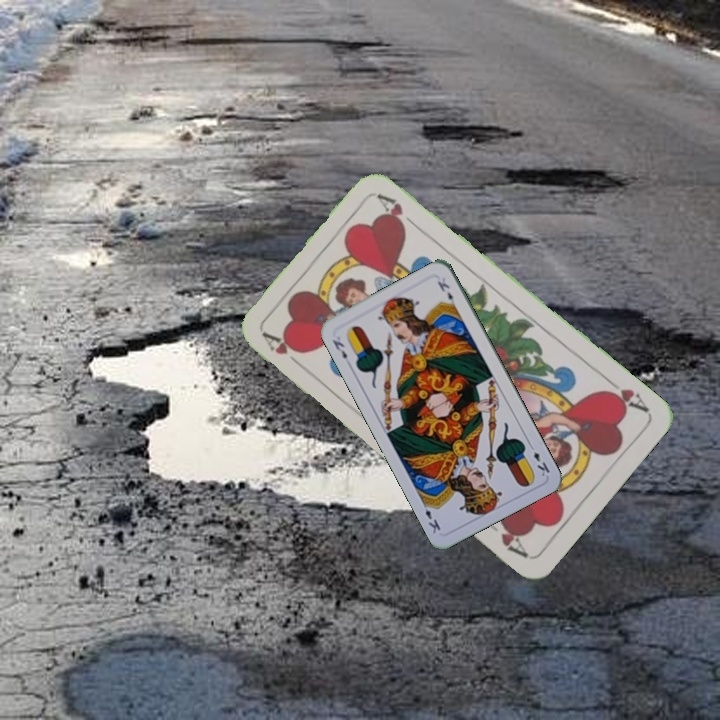EK: (525, 440, 552, 479), (328, 335, 350, 362)
HA: (259, 328, 307, 374), (599, 373, 651, 415)
